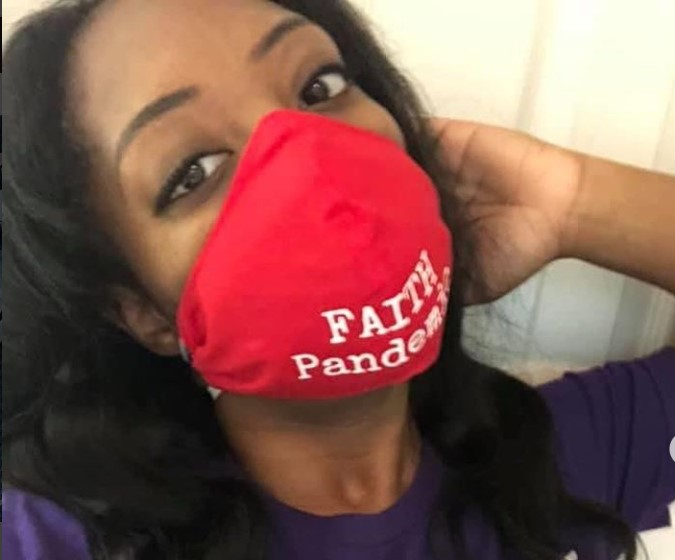face_with_mask: (55, 5, 476, 414)
